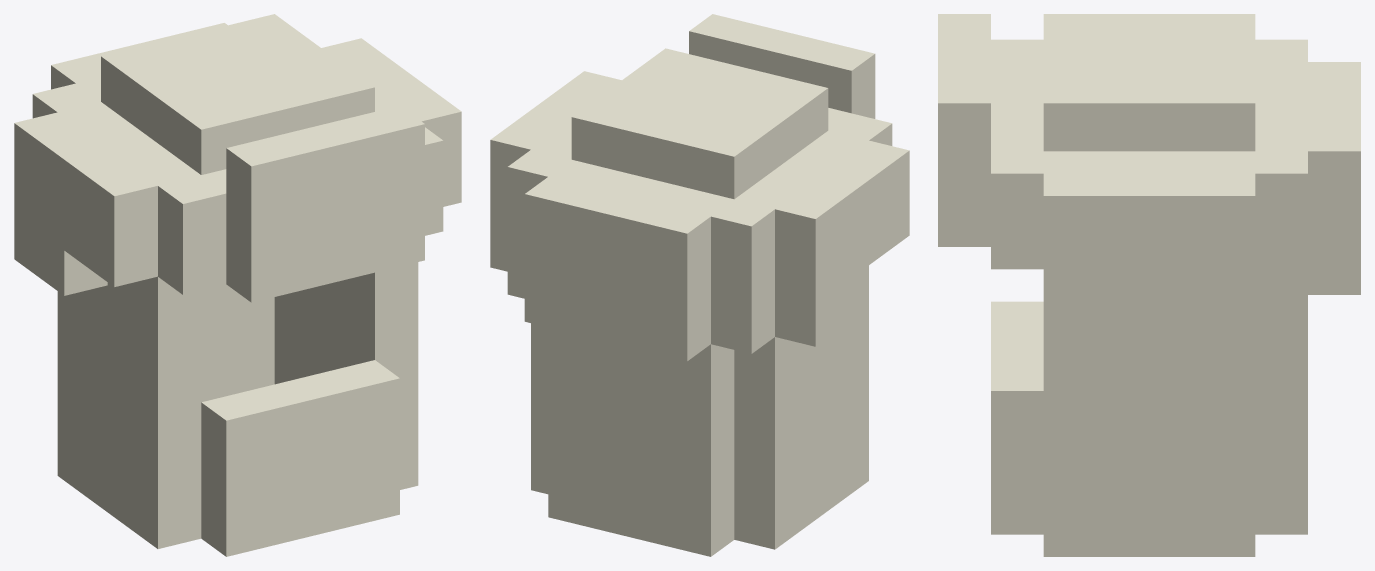
Rendered from characters_export_red-185-helm_lgt_1e_sh.obj.
3 renders of one model, left to right at view 1: azimuth 30°, elevation 25°; view 2: azimuth 150°, elevation 25°; view 3: azimuth 270°, elevation 25°, orthographic. The views are drawn at different scales.
Visible parts, largest first — view 1: helm_lgt_1e_sh; view 2: helm_lgt_1e_sh; view 3: helm_lgt_1e_sh.
Boxes of the visible parts, x1=… form: helm_lgt_1e_sh: x1=14, y1=14, x2=461, y2=556; helm_lgt_1e_sh: x1=490, y1=14, x2=909, y2=556; helm_lgt_1e_sh: x1=938, y1=14, x2=1360, y2=556.
Size of the model in its own units: 0.8 by 0.9 by 0.8.
1 material, 1 textured.
